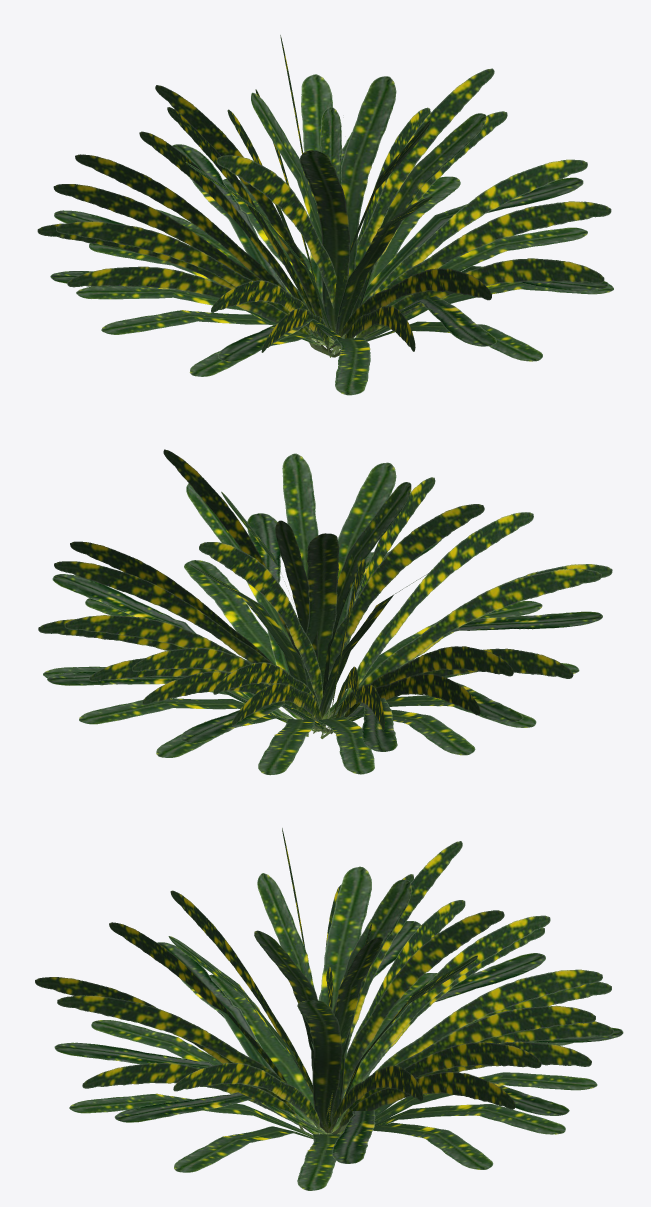
Rendered from plant6.FBX.
3 renders of one model, top to bottom at view 1: azimuth 30°, elevation 25°; view 2: azimuth 150°, elevation 25°; view 3: azimuth 270°, elevation 25°, orthographic.
Parts seen in each view (by area): view 1: plant6; view 2: plant6; view 3: plant6.
Boxes of the visible parts, box(x1,y1,x2,y2) form: plant6: box(37, 35, 613, 395); plant6: box(38, 449, 612, 775); plant6: box(35, 828, 623, 1190).
Bounding box in the file's own units: 3.27 × 1.61 × 3.2.
